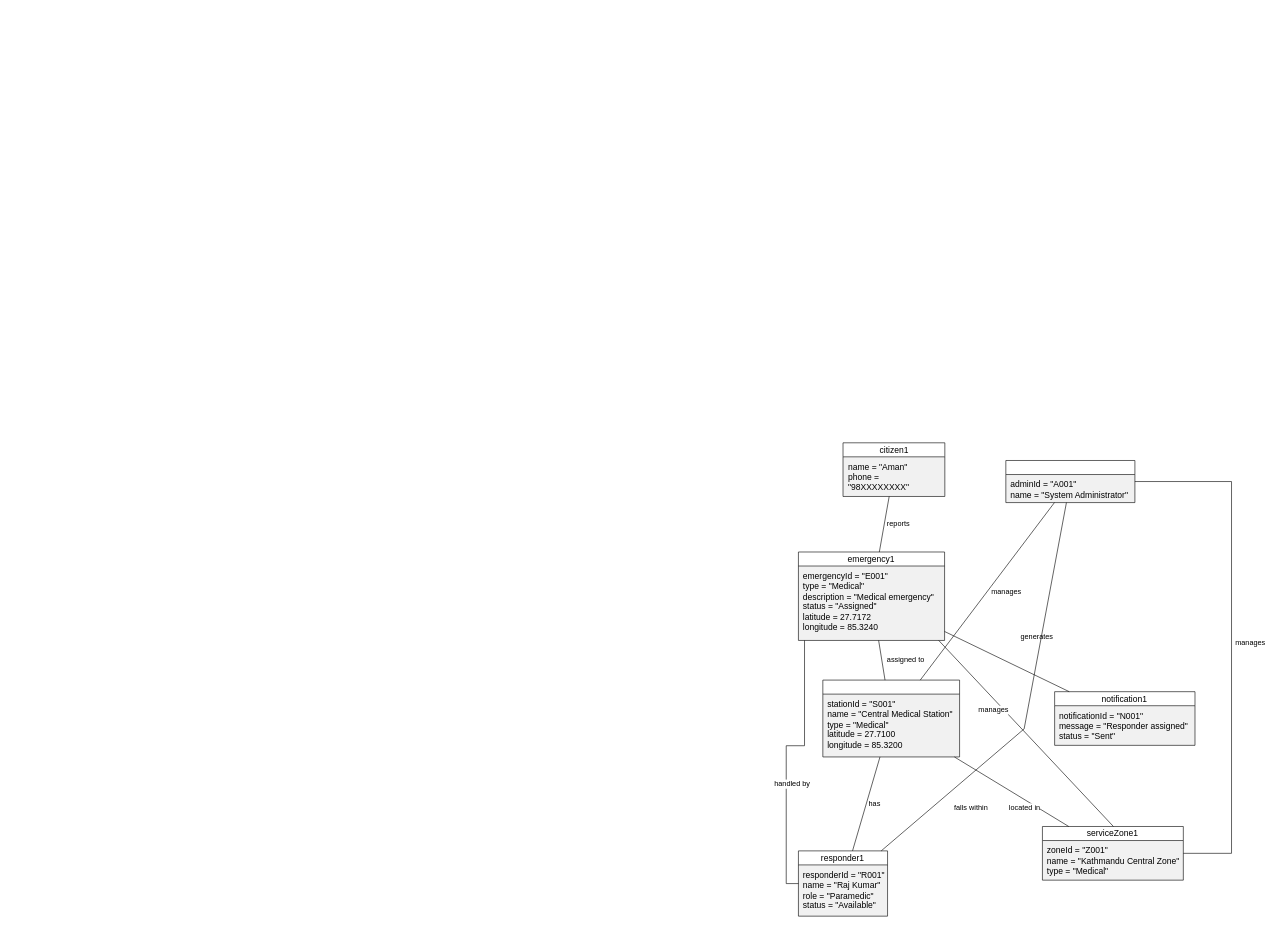
The diagram is 1276 pixels wide and 927 high, and some of its shapes have lost their labels. The shapes that lost their labels are listed below. From the top down, each one's box as (x1, y1, x2, y2) in pixels, then its label:
(1005, 460, 1135, 503): admin1
(822, 679, 960, 757): station1
